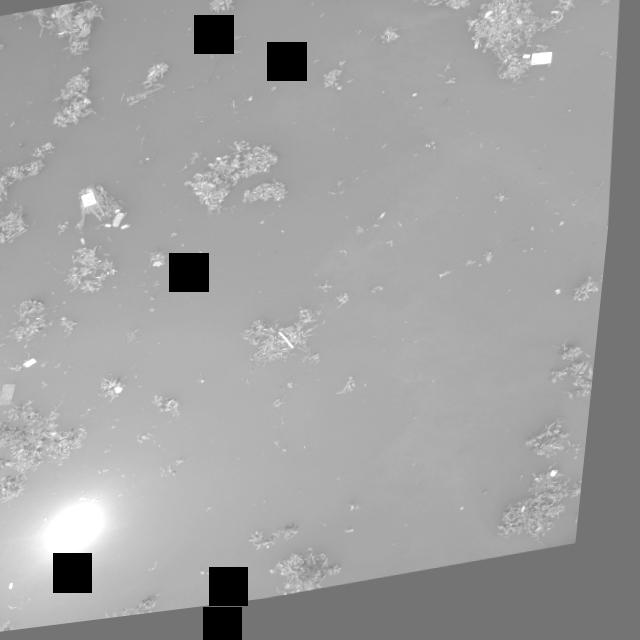plastic: (2, 378, 28, 412), (531, 63, 558, 85), (81, 191, 103, 216), (111, 215, 129, 237), (27, 359, 49, 373), (558, 484, 573, 495), (146, 73, 158, 85), (353, 537, 369, 546), (522, 65, 534, 76), (19, 582, 27, 595), (473, 54, 482, 65), (486, 29, 496, 37), (271, 92, 280, 100), (532, 519, 539, 529), (49, 12, 56, 21), (361, 515, 367, 522), (546, 543, 555, 547)
